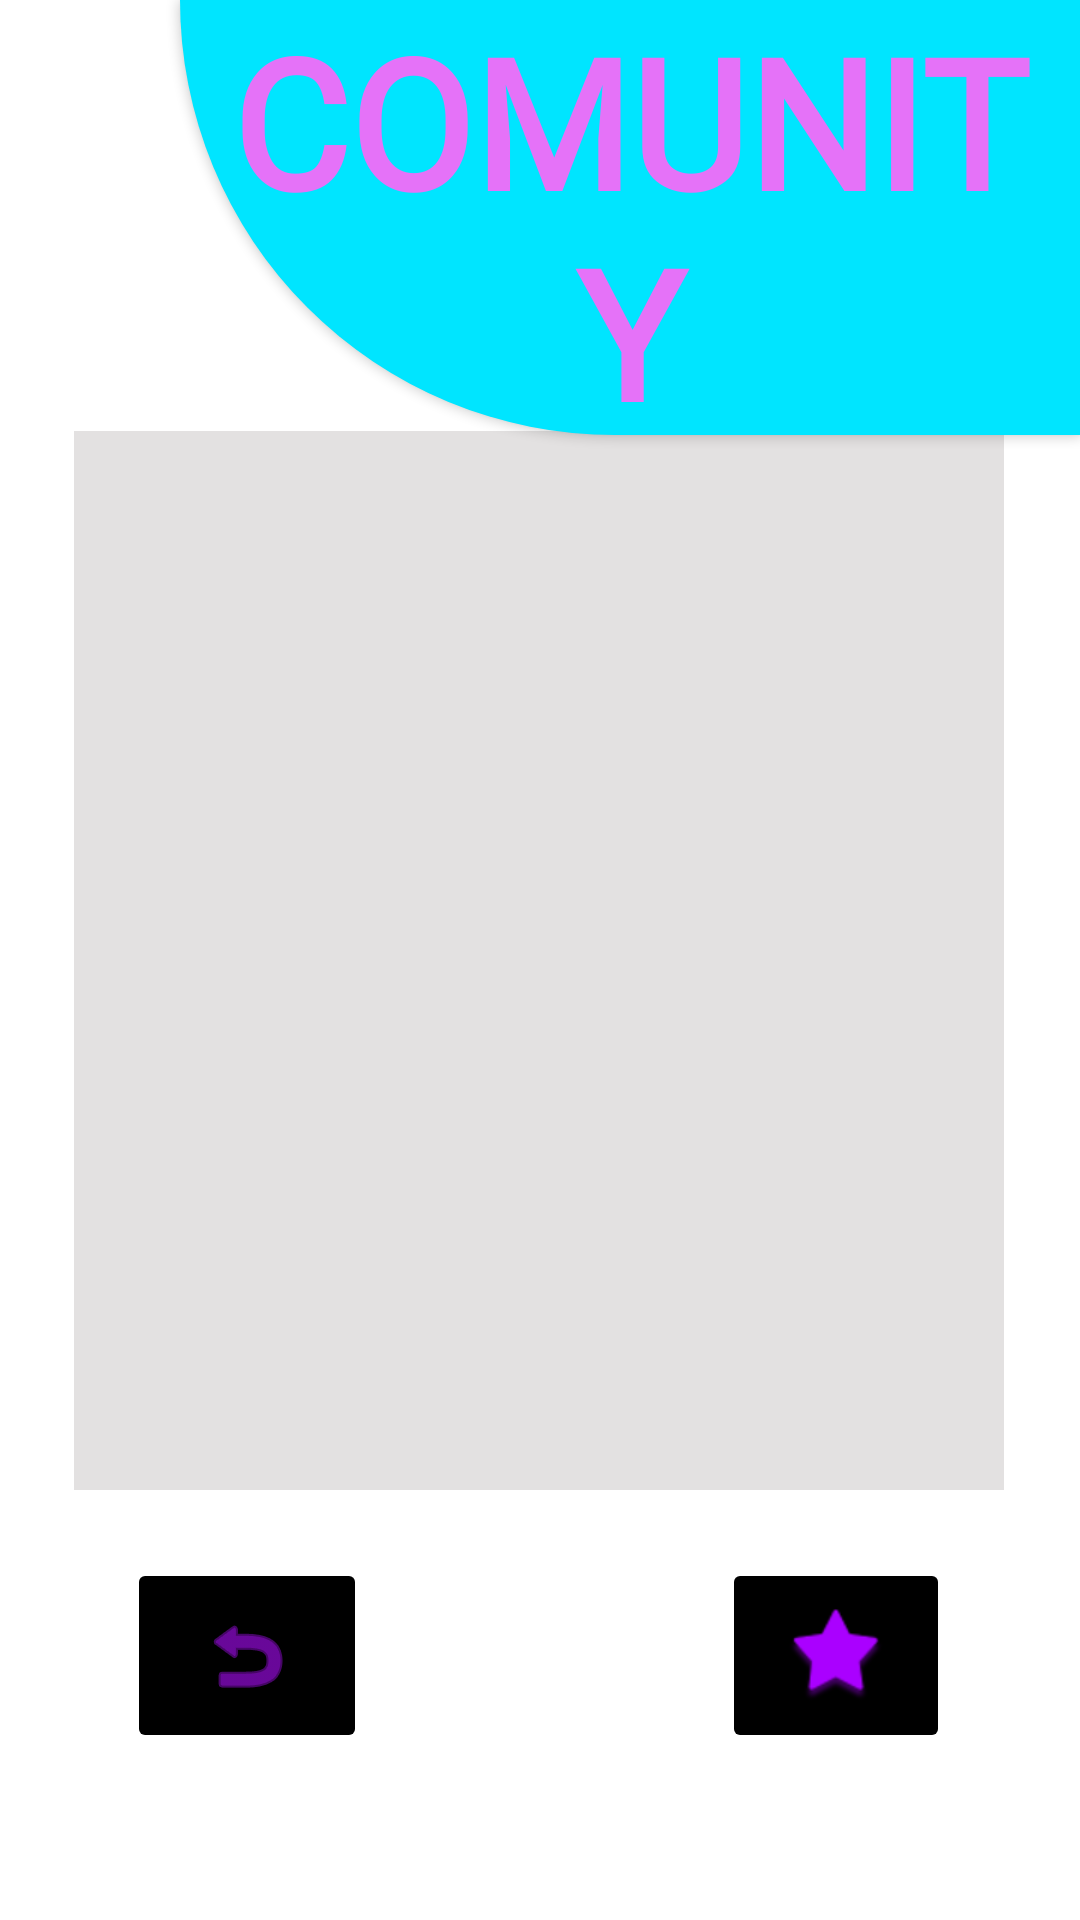

Named icons in this screenshot (1080*1920) and their bounding boxes, region(x1, y1, x2, y2):
revert: region(139, 1576, 355, 1735)
